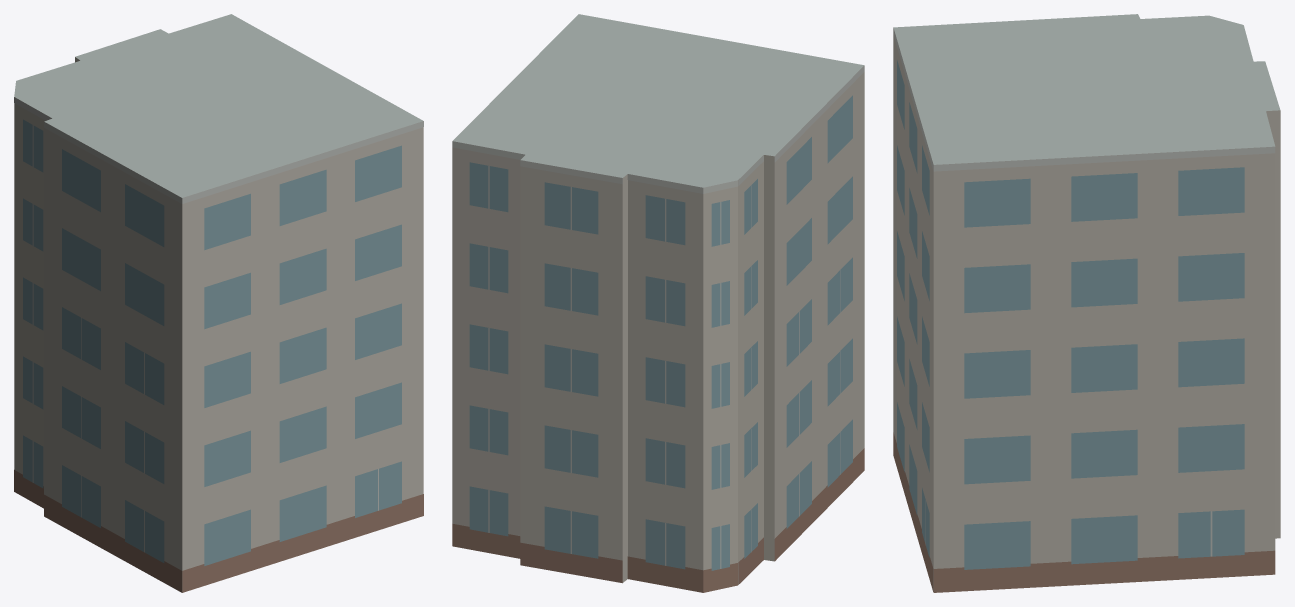
Rendered from survey-upis-33029306.glb.
3 views of the same model, side by side, from view 1: azimuth 30°, elevation 25°; view 2: azimuth 150°, elevation 25°; view 3: azimuth 270°, elevation 25° (orthographic). The views are drawn at different scales.
Parts seen in each view (by area): view 1: survey-upis-33029306.tmp; view 2: survey-upis-33029306.tmp; view 3: survey-upis-33029306.tmp.
Boxes of the visible parts, x1=… form: survey-upis-33029306.tmp: x1=14, y1=14, x2=423, y2=592; survey-upis-33029306.tmp: x1=452, y1=14, x2=864, y2=592; survey-upis-33029306.tmp: x1=893, y1=14, x2=1280, y2=592.
Bounding box in the file's own units: 11.89 × 15.71 × 12.89.
